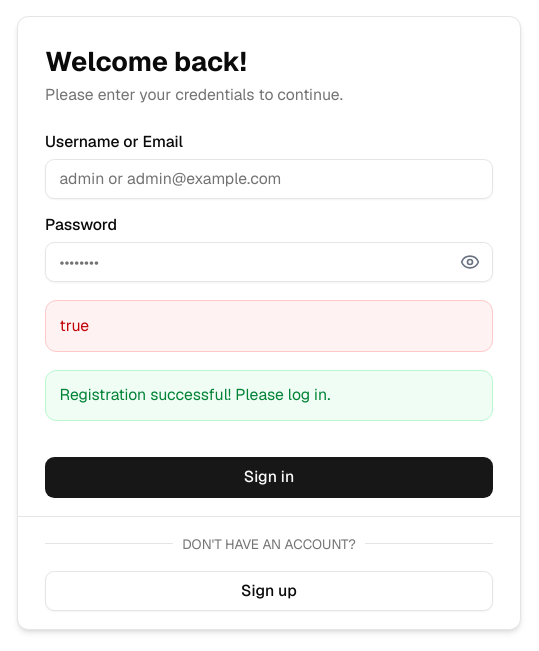
Test: LoginForm › should disable inputs during pending state
Type "testuser" into the field labelled "Username or Email" at {"x": 269, "y": 179}, box [45, 158, 493, 199]
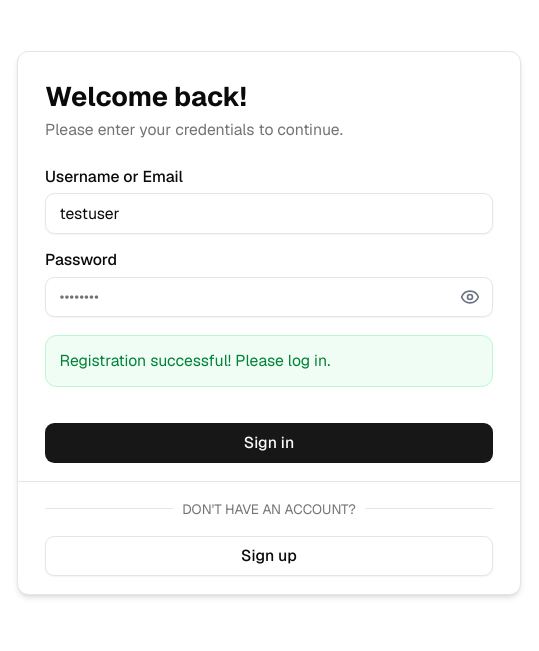
Type "password123" into the password field labelled "Password" at {"x": 269, "y": 297}, box [45, 276, 493, 317]
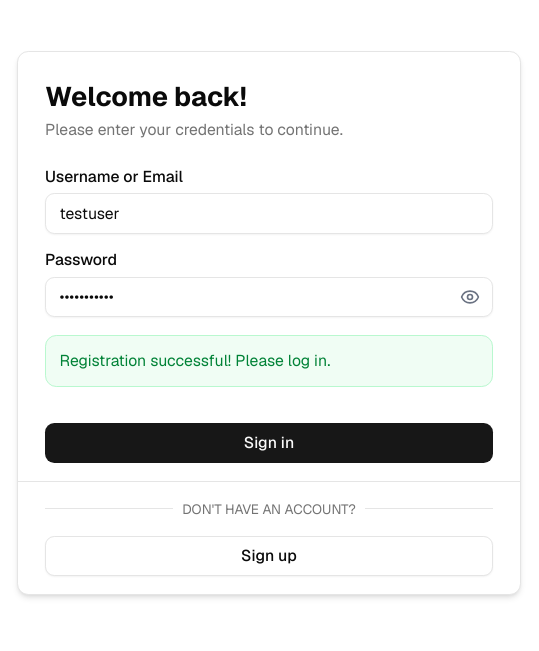
Click the button "Sign in" at {"x": 269, "y": 443}, box [45, 422, 493, 463]
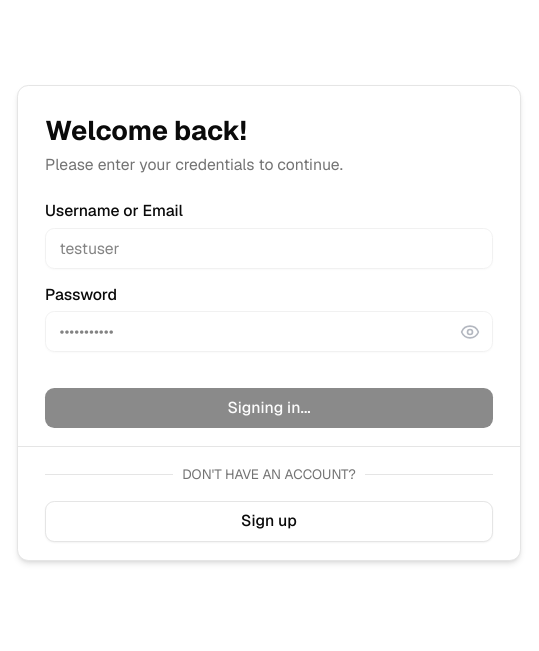
Now the field labelled "Username or Email" is disabled, box [45, 228, 493, 268]
Now the password field labelled "Password" is disabled, box [45, 311, 493, 352]
Now the button named "sign in" is disabled, box [45, 388, 493, 428]
